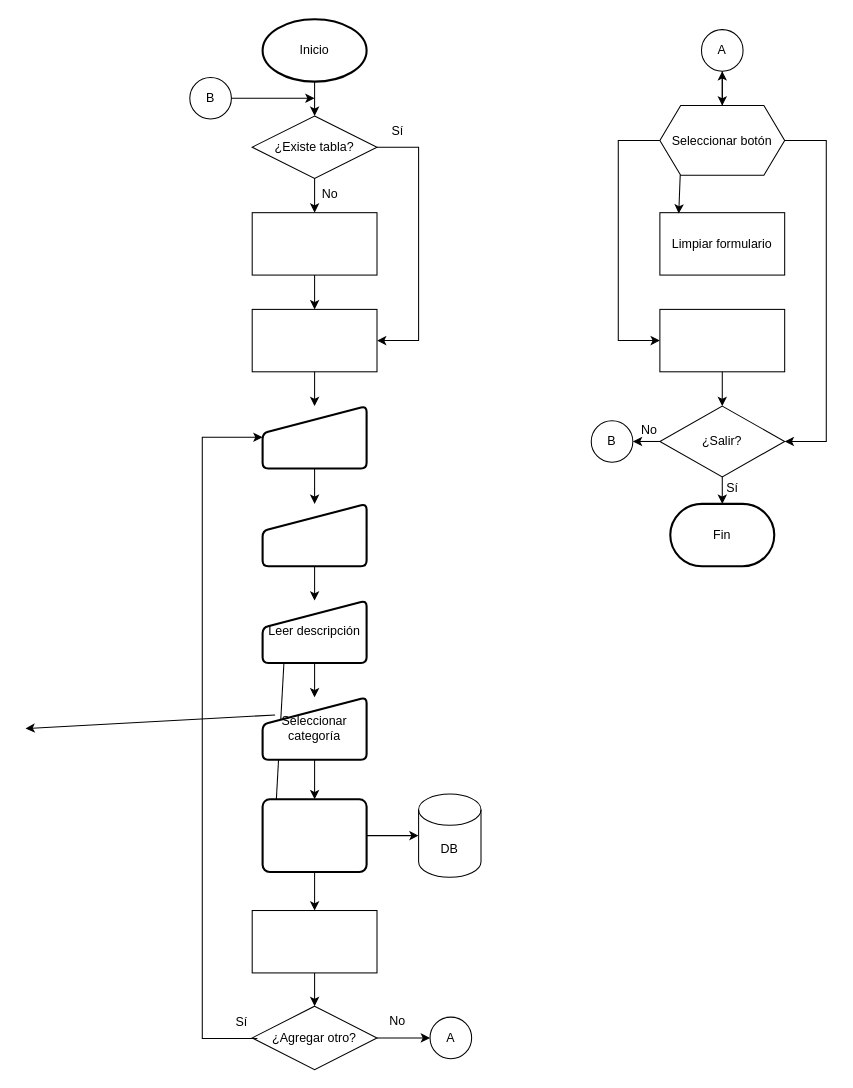
The diagram is 853 pixels wide and 1088 high, and some of its shapes have lost their labels. Here are the shapes that lost their labels. From the top down, the centre of each, then its label:
At point 314,243: "Crear tabla en BD".
At point 314,340: "Mostrar productos almacenados en Data Grid View".
At point 722,340: "Borrar Menú".
At point 314,437: "Leer nombre de producto".
At point 314,534: "Leer Precio".
At point 314,835: "Agregar Producto".
At point 314,941: "Mostrar producto en Data Grid View".
